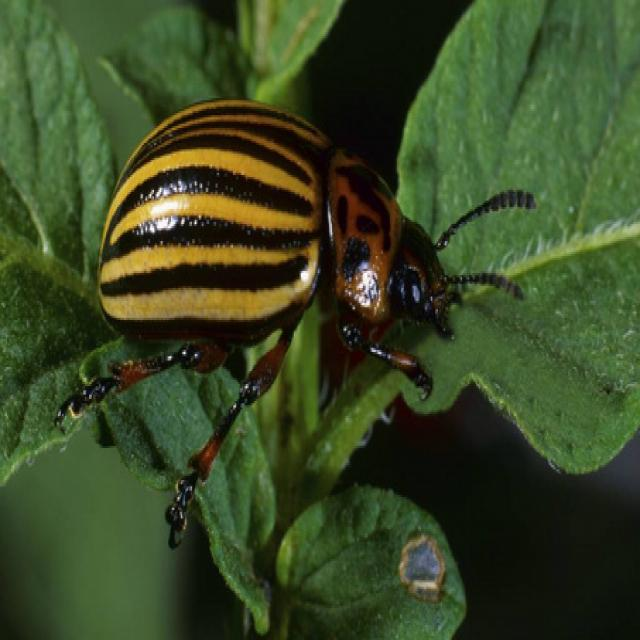ShuCaiHuaBanChong-Grown-: (69, 89, 486, 428)
